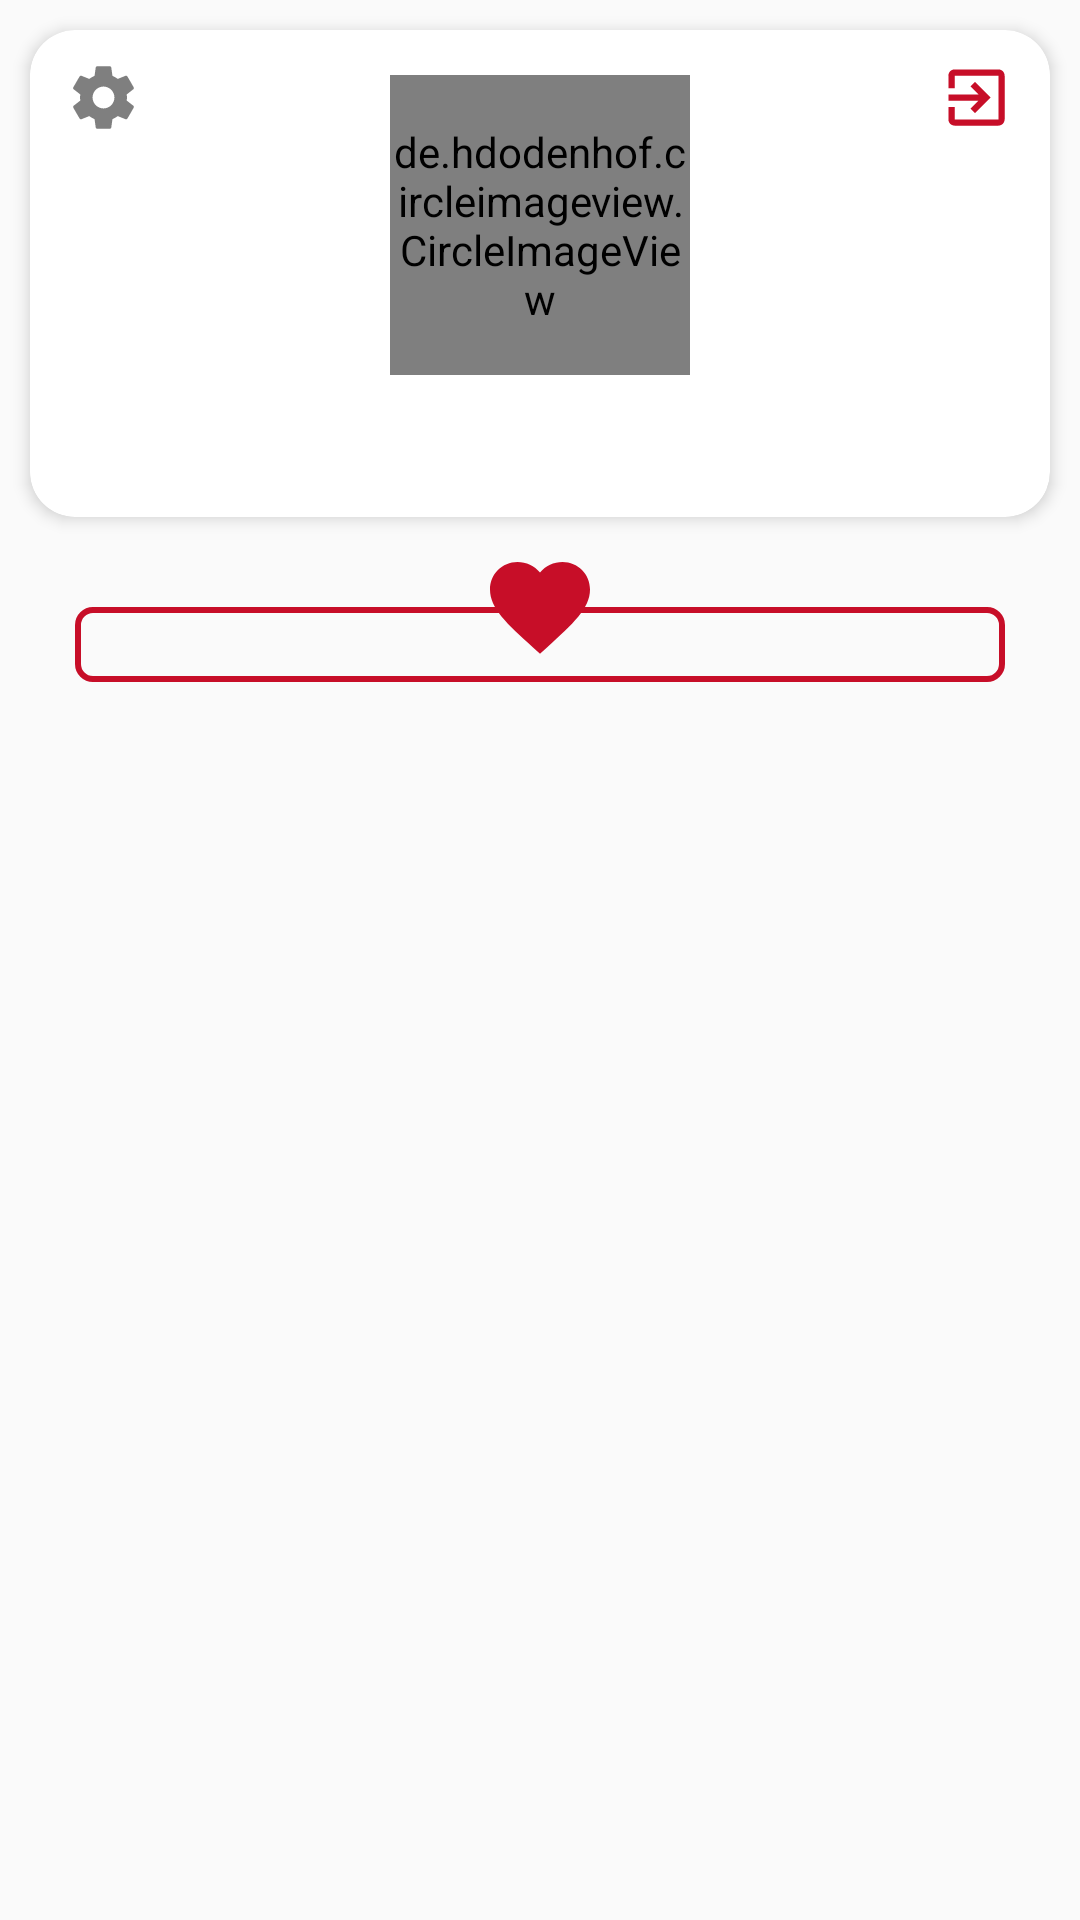

Named icons in this screenshot (1080 × 1920) and their centers, (x=x, y=y):
exit to app: (x=976, y=97)
favorite: (x=540, y=608)
settings: (x=103, y=97)
